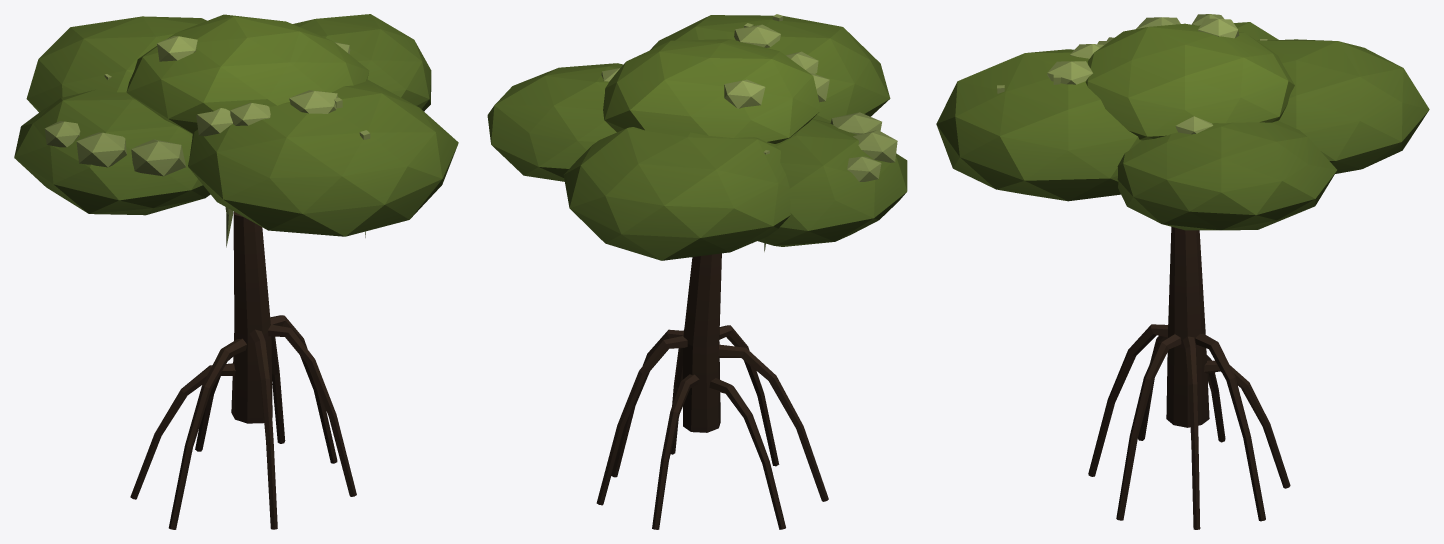
File: tree_mangrove_01.glb
The picture shows the model from 3 angles, left to right: view 1: azimuth 30°, elevation 25°; view 2: azimuth 150°, elevation 25°; view 3: azimuth 270°, elevation 25°; orthographic projection. The views are drawn at different scales.
Parts seen in each view (by area): view 1: tree_mangrove_01_LOD0; view 2: tree_mangrove_01_LOD0; view 3: tree_mangrove_01_LOD0.
Boxes of the visible parts, x1,y1,x2,y2 form: tree_mangrove_01_LOD0: [14, 14, 458, 529]; tree_mangrove_01_LOD0: [487, 14, 907, 529]; tree_mangrove_01_LOD0: [936, 14, 1429, 529].
Size of what is drawn, in the model's own units: 3.84 by 4.21 by 4.25.
Materials: 1 (1 with a texture image).
